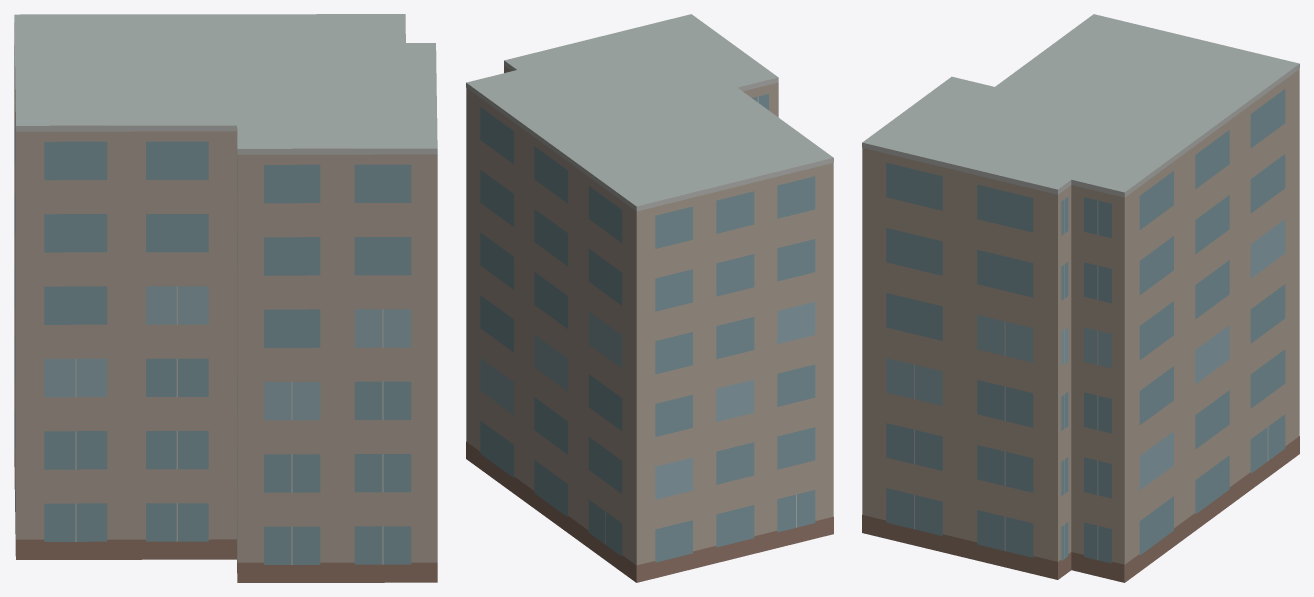
File: survey-upis-32612721.glb
3 views of the same model, side by side, from view 1: azimuth 30°, elevation 25°; view 2: azimuth 150°, elevation 25°; view 3: azimuth 270°, elevation 25° (orthographic). The views are drawn at different scales.
Parts seen in each view (by area): view 1: survey-upis-32612721.tmp; view 2: survey-upis-32612721.tmp; view 3: survey-upis-32612721.tmp.
Boxes of the visible parts, <box> form: survey-upis-32612721.tmp: <box>14,14,437,582</box>; survey-upis-32612721.tmp: <box>466,14,833,582</box>; survey-upis-32612721.tmp: <box>862,14,1299,582</box>.
Size of the model in its own units: 17.95 by 18.3 by 18.6.
